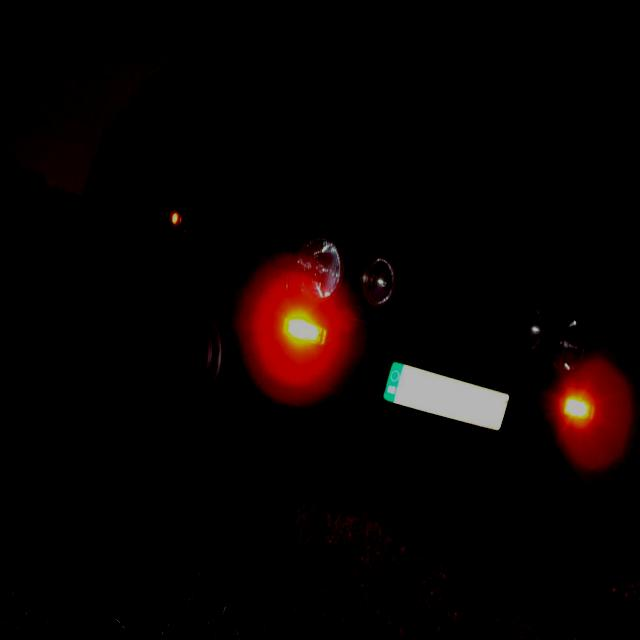Car: (69, 48, 586, 496)
